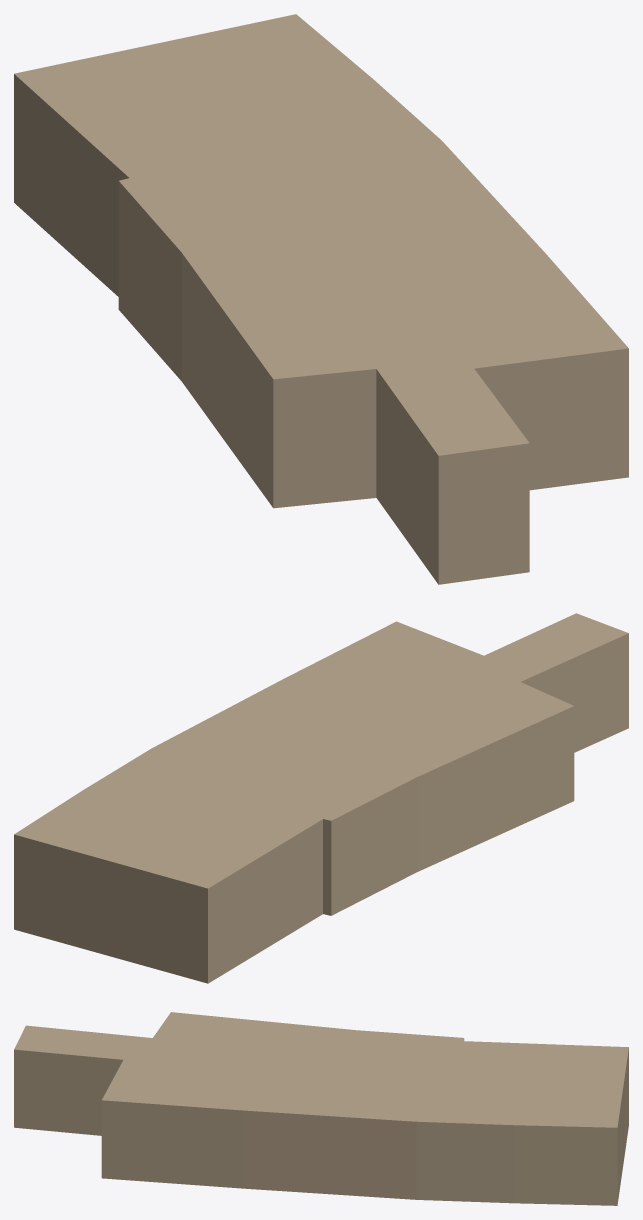
Rendered from bld_98768025.dae.
3 views of the same model, one above another, from view 1: azimuth 30°, elevation 25°; view 2: azimuth 150°, elevation 25°; view 3: azimuth 270°, elevation 25° (orthographic). The views are drawn at different scales.
Visible parts, largest first — view 1: M&S Food; view 2: M&S Food; view 3: M&S Food.
Boxes of the visible parts, x1,y1,x2,y2 form: M&S Food: [14, 14, 628, 584]; M&S Food: [14, 613, 628, 983]; M&S Food: [14, 1012, 628, 1205].
Bounding box in the file's own units: 25.41 × 57.07 × 8.
